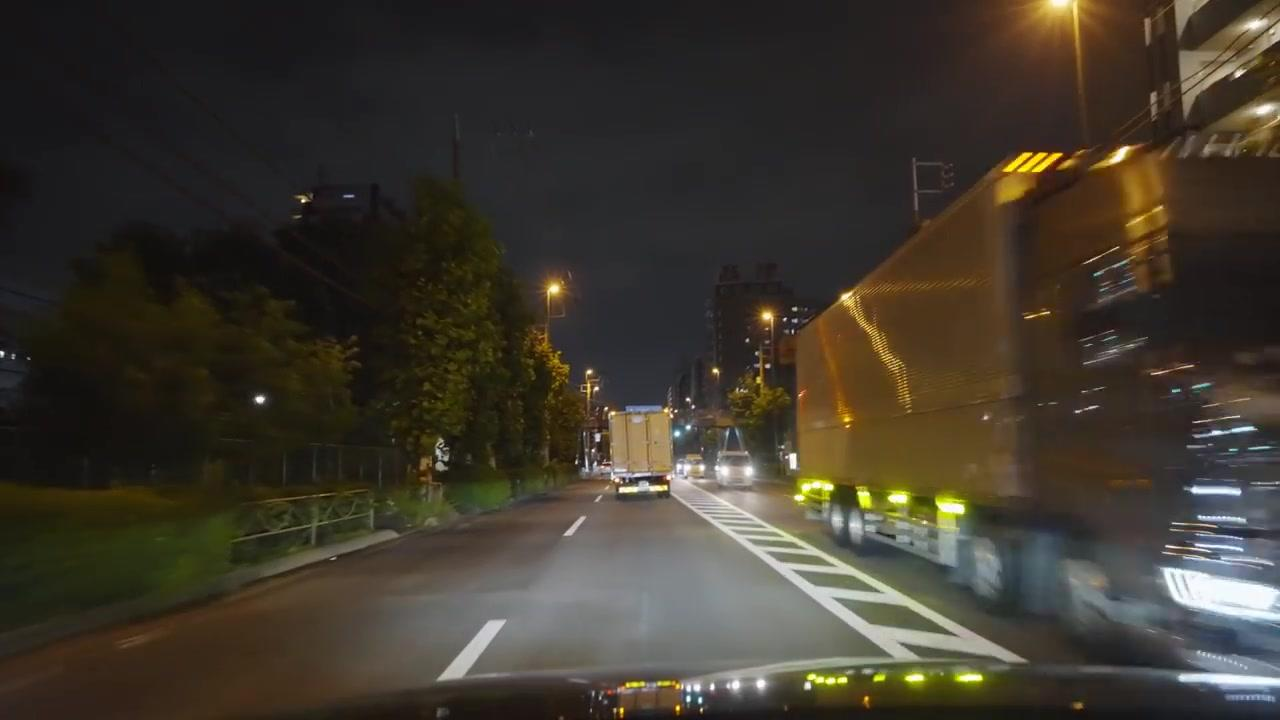car: (714, 451, 755, 488)
truck: (791, 137, 1274, 656), (609, 408, 674, 499)
